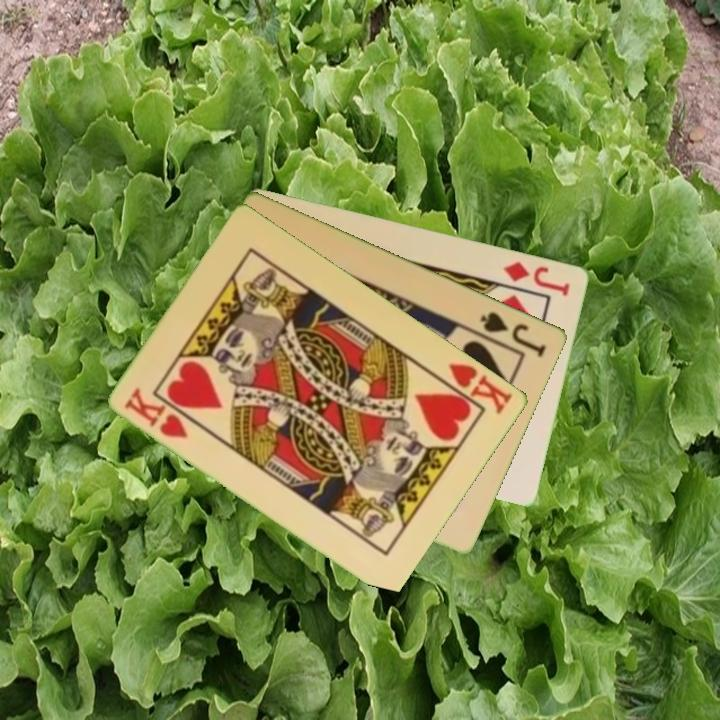Jd: (500, 257, 574, 299)
Js: (477, 308, 550, 360)
Kh: (433, 359, 516, 417), (121, 384, 192, 441)
